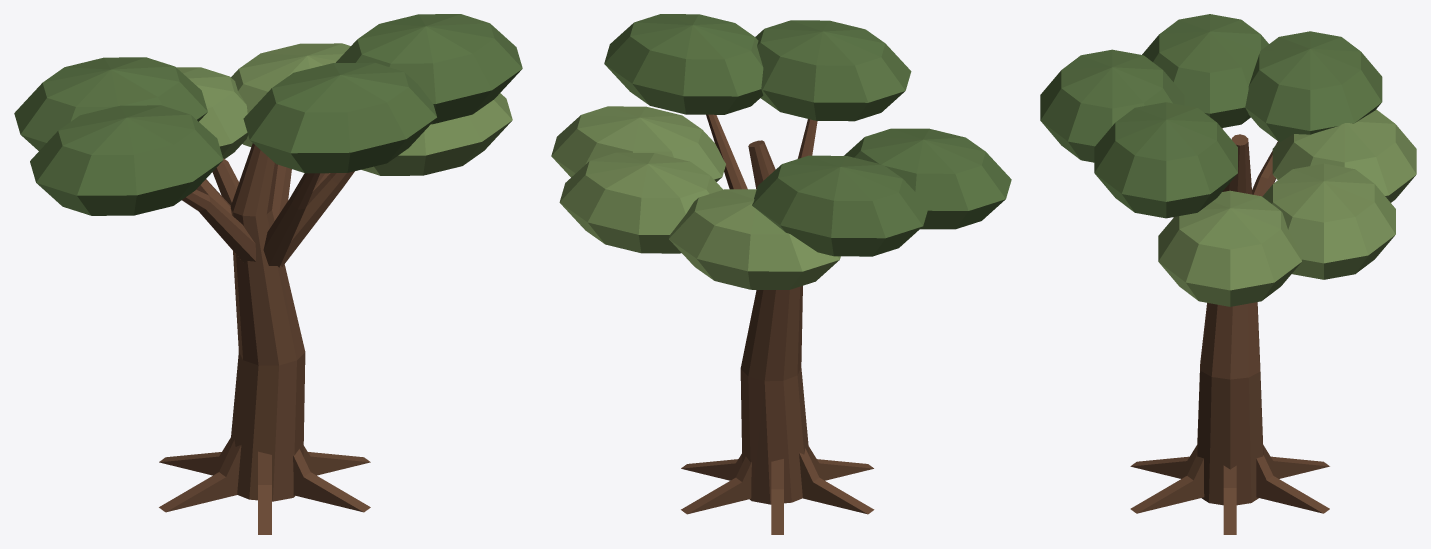
File: Plant_Feature_Forest_ButtressTree_001.glb
The picture shows the model from 3 angles, left to right: view 1: azimuth 30°, elevation 25°; view 2: azimuth 150°, elevation 25°; view 3: azimuth 270°, elevation 25°; orthographic projection. The views are drawn at different scales.
Visible parts, largest first — view 1: Plant_Feature_Forest_ButtressTree_001; view 2: Plant_Feature_Forest_ButtressTree_001; view 3: Plant_Feature_Forest_ButtressTree_001.
Boxes of the visible parts, left/top/right/bottom form: Plant_Feature_Forest_ButtressTree_001: left=14, top=14, right=522, bottom=534; Plant_Feature_Forest_ButtressTree_001: left=551, top=14, right=1011, bottom=534; Plant_Feature_Forest_ButtressTree_001: left=1040, top=14, right=1416, bottom=534.
Bounding box in the file's own units: 7.96 × 7.21 × 5.72.
